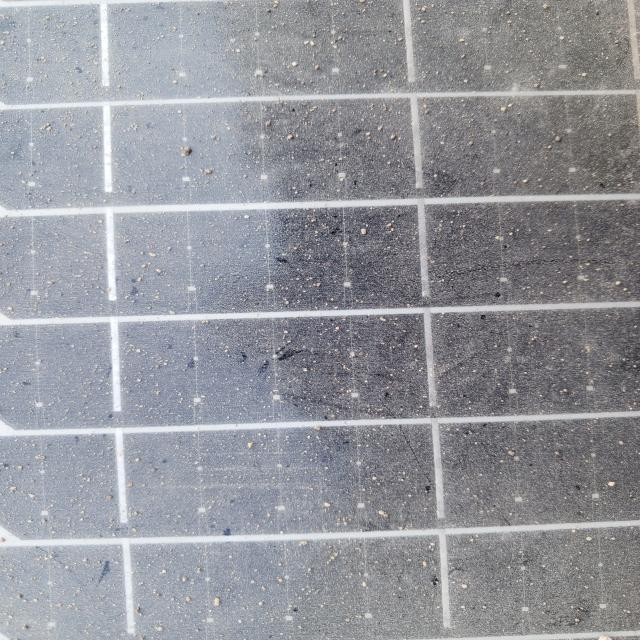Anomaly Solar Panel: (9, 16, 635, 636)
Surface Contaminant: (29, 34, 639, 629)
